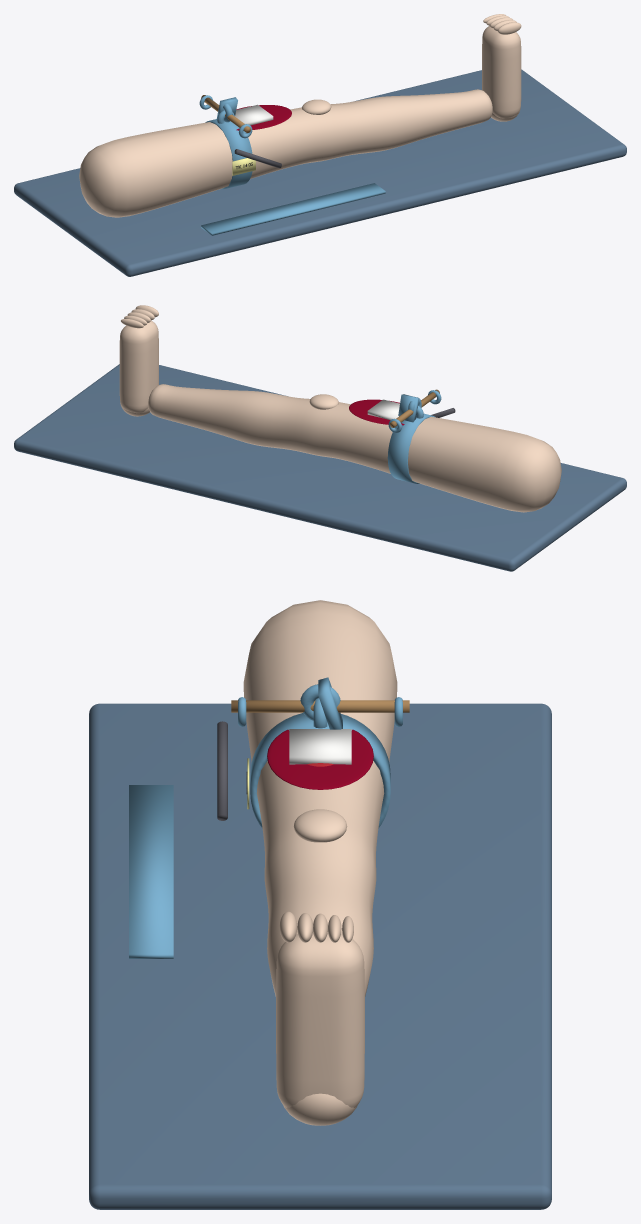
The model's file is TrainerLeg.glb.
3 renders of one model, top to bottom at view 1: azimuth 30°, elevation 25°; view 2: azimuth 150°, elevation 25°; view 3: azimuth 270°, elevation 25°, orthographic. The views are drawn at different scales.
Visible parts, largest first — view 1: Base, Leg, Foot, Strip, Band, Stain, Pad; view 2: Base, Leg, Foot, Band, Stain, Pad; view 3: Base, Leg, Foot, Strip, Stain, Band, Pad, Stick, Heel, Kneecap, Pen.
Part boxes in pixels (x1,y1,x2,y2): Base: (14, 69, 626, 276); Leg: (79, 89, 492, 217); Foot: (482, 25, 521, 118); Strip: (201, 183, 385, 235); Band: (205, 119, 252, 189); Stain: (236, 105, 291, 130); Pad: (234, 104, 273, 125); Base: (14, 364, 626, 571); Leg: (148, 384, 561, 512); Foot: (119, 320, 158, 413); Band: (387, 413, 435, 483); Stain: (349, 399, 404, 425); Pad: (367, 399, 399, 420); Base: (89, 703, 551, 1209); Leg: (243, 600, 397, 996); Foot: (276, 933, 364, 1107); Strip: (129, 785, 173, 958); Stain: (267, 729, 373, 789); Band: (250, 713, 390, 828); Pad: (289, 729, 351, 764); Stick: (231, 700, 409, 712); Heel: (283, 1093, 357, 1125); Kneecap: (293, 809, 347, 842); Pen: (217, 721, 227, 820).
Size of the model in its own units: 1.3 by 0.284 by 0.52.
